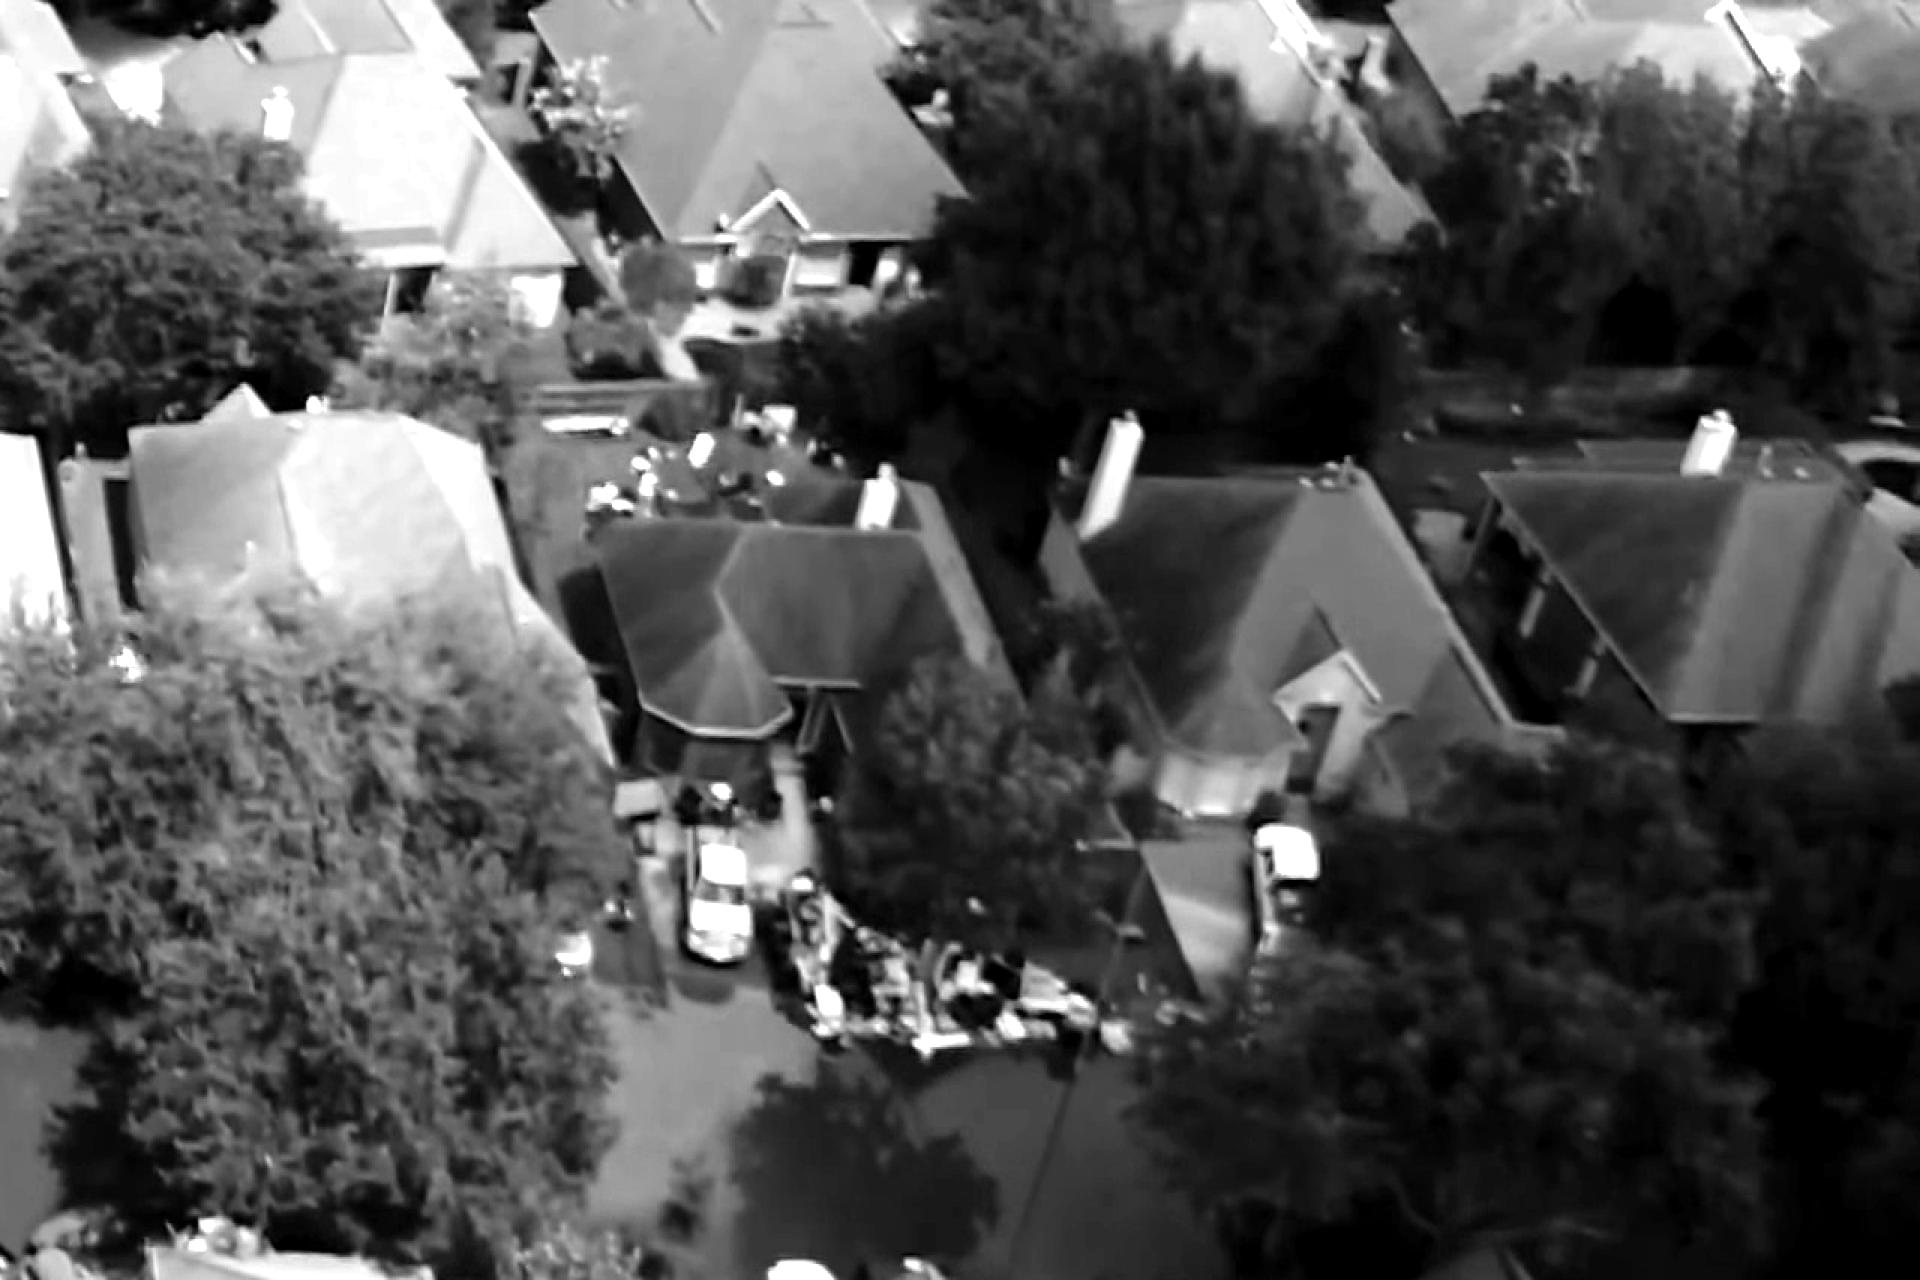House: (1041, 411, 1530, 819), (160, 0, 574, 351), (1471, 419, 1920, 733), (527, 3, 973, 309), (580, 471, 989, 784), (121, 409, 529, 720), (1121, 0, 1441, 261), (1379, 0, 1779, 104), (1096, 1241, 1864, 1280), (0, 0, 91, 309), (0, 1230, 501, 1280), (0, 427, 79, 740), (479, 1269, 1101, 1280)
Vehicle: (1246, 819, 1337, 966), (680, 821, 756, 967), (761, 1253, 851, 1280), (0, 1181, 10, 1280)
